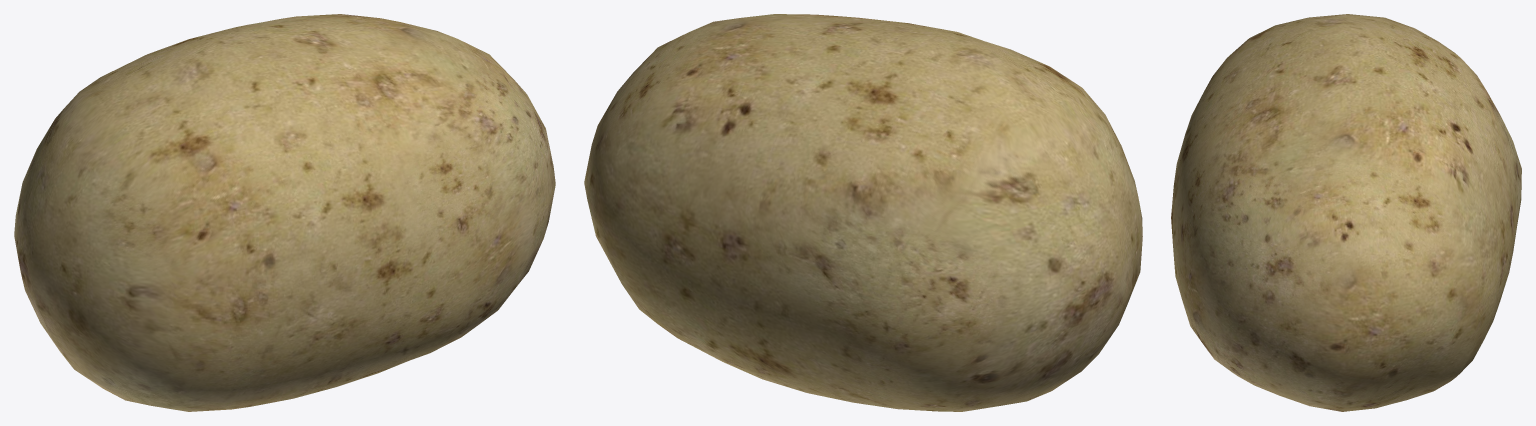
The model's file is potato.fbx.
3 views of the same model, side by side, from view 1: azimuth 30°, elevation 25°; view 2: azimuth 150°, elevation 25°; view 3: azimuth 270°, elevation 25° (orthographic). The views are drawn at different scales.
Parts seen in each view (by area): view 1: pCube1; view 2: pCube1; view 3: pCube1.
Boxes of the visible parts, left/top/right/bottom form: pCube1: left=14, top=14, right=555, bottom=411; pCube1: left=584, top=14, right=1142, bottom=411; pCube1: left=1171, top=14, right=1521, bottom=411.
Bounding box in the file's own units: 16.54 × 10.72 × 10.79.
